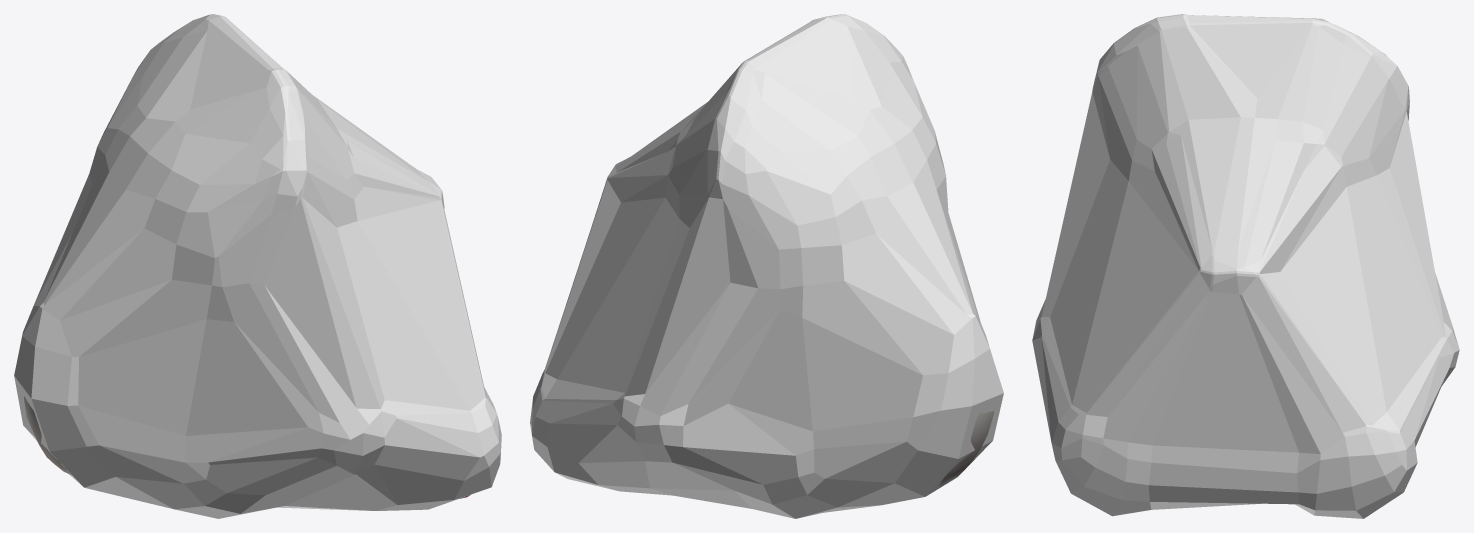
File: wolf02.fbx
The picture shows the model from 3 angles, left to right: view 1: azimuth 30°, elevation 25°; view 2: azimuth 150°, elevation 25°; view 3: azimuth 270°, elevation 25°; orthographic projection. The views are drawn at different scales.
Parts seen in each view (by area): view 1: wolf02; view 2: wolf02; view 3: wolf02.
Boxes of the visible parts, x1,y1,x2,y2 form: wolf02: (14, 14, 501, 518); wolf02: (530, 14, 1003, 518); wolf02: (1032, 14, 1459, 518).
Size of the model in its own units: 107 by 110 by 98.64.
